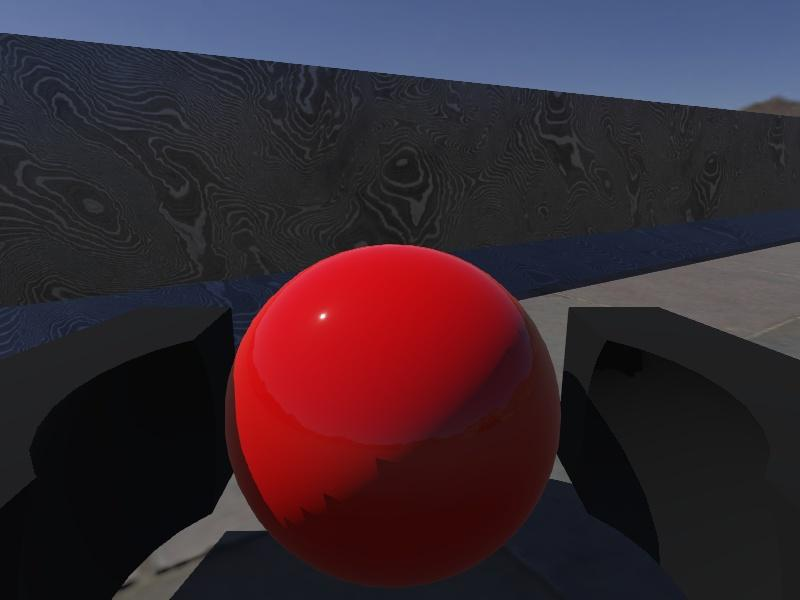red ball: (223, 242, 563, 591)
